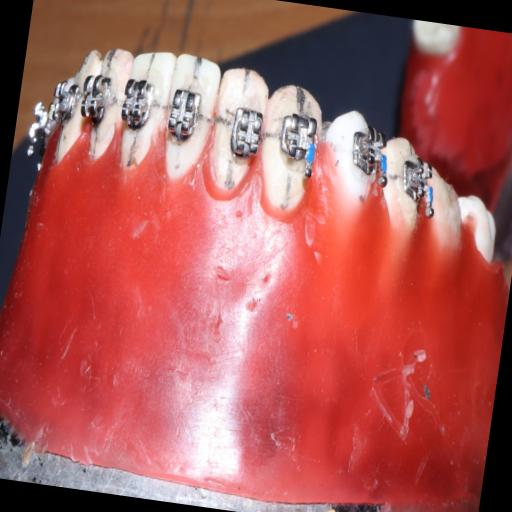correct_brace: (268, 107, 322, 190), (162, 82, 208, 149)
incorrect_brace: (200, 54, 275, 210), (221, 102, 268, 172)
